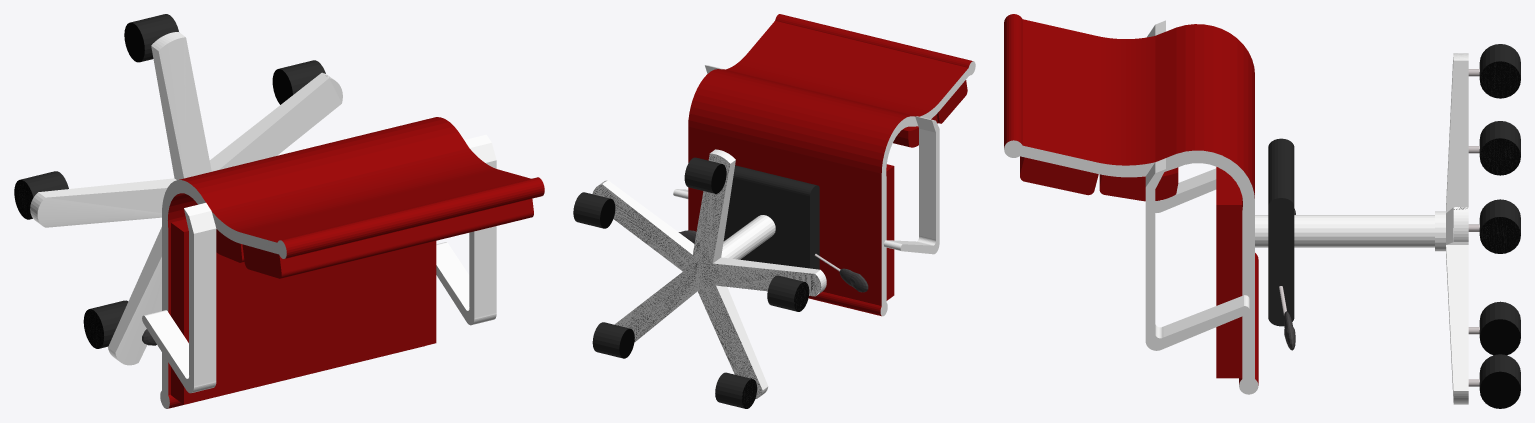
3 renders of one model, left to right at view 1: azimuth 30°, elevation 25°; view 2: azimuth 150°, elevation 25°; view 3: azimuth 270°, elevation 25°, orthographic. The views are drawn at different scales.
Parts seen in each view (by area): view 1: director chair; view 2: director chair; view 3: director chair.
Part boxes in pixels (<box>): director chair: <box>14,14,544,408</box>; director chair: <box>573,14,975,408</box>; director chair: <box>1004,14,1520,408</box>.
Bounding box in the file's own units: 27.28 × 27.1 × 39.74.
